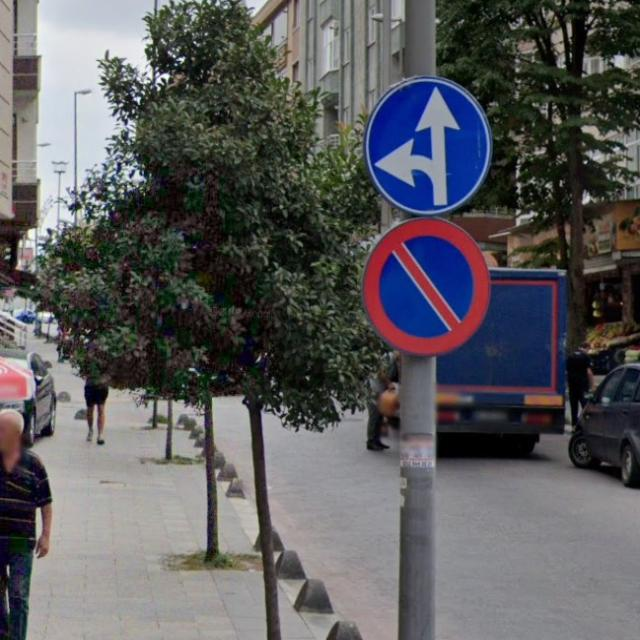ilerisol: (366, 76, 490, 213)
parkyasak: (362, 217, 490, 355)
